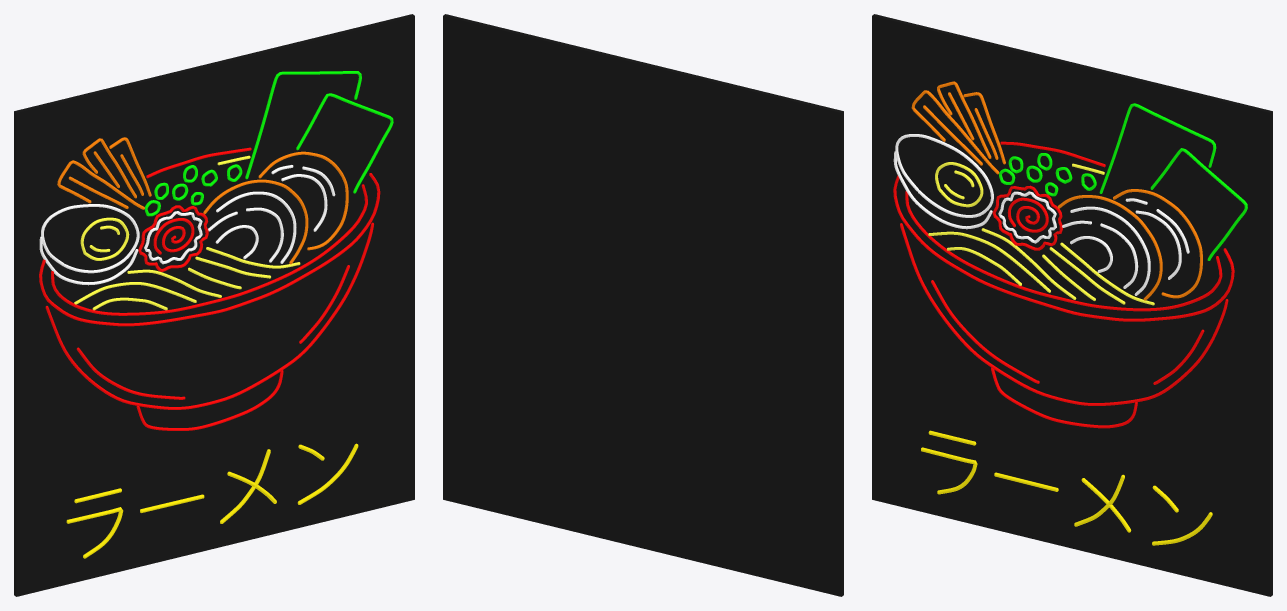
The model's file is ラーメン.glb.
3 views of the same model, side by side, from view 1: azimuth 30°, elevation 25°; view 2: azimuth 150°, elevation 25°; view 3: azimuth 330°, elevation 25° (orthographic).
Size of the model in its own units: 683 by 793 by 12.2.
